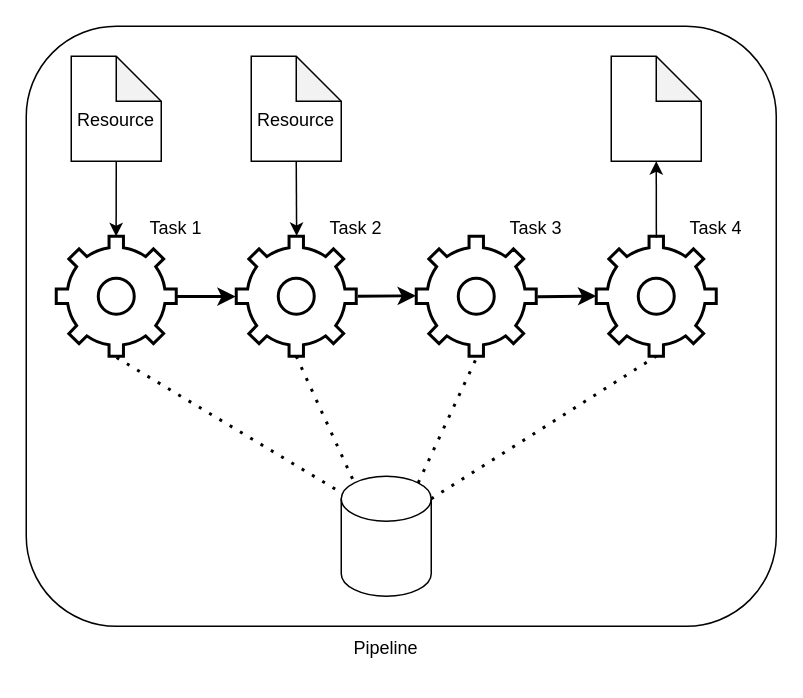
This 803x698 diagram has some shape labels left out. Here are the shapes that lost their labels. From the top down, the centre of each, then its label:
At (655,108): "Output".
At (385,535): "Database".
